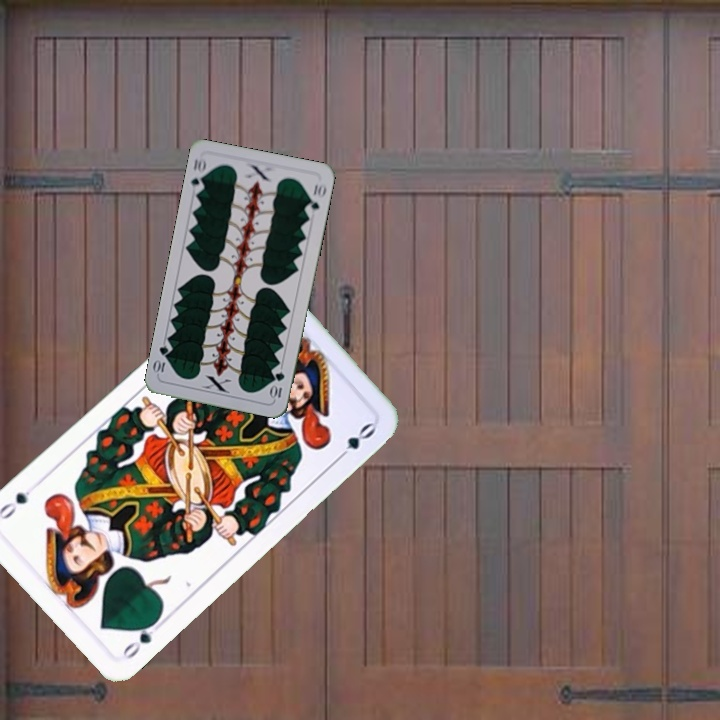G10: (187, 153, 209, 195), (267, 368, 287, 402)
GO: (118, 613, 163, 662)
